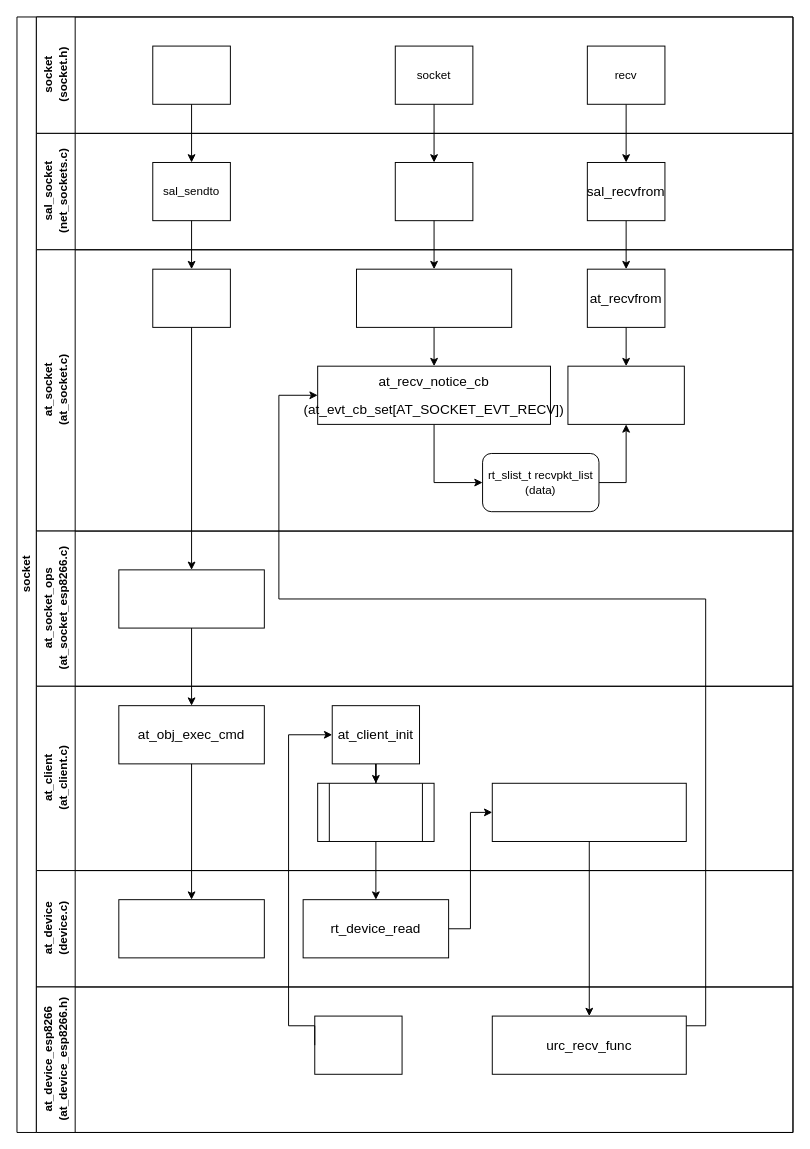
Some shapes in this 810 by 1149 pixel diagram are drawn without their labels. The centre of each missing label's shape, as x and y in pixels:
"at_recvpkt_get" belongs at (625,394).
"at_sendto" belongs at (191,297).
"at_socket (at_set_event_cb)" belongs at (434,297).
"client_parser" belongs at (375,811).
"esp8266_init" belongs at (358,1044).
"esp8266_socket_send" belongs at (191,598).
"get_urc_obj (对每个指令轮询urc_table)" belongs at (588,811).
"rt_device_write" belongs at (191,928).
"sal_socket" belongs at (433,191).
"send" belongs at (191,74).
